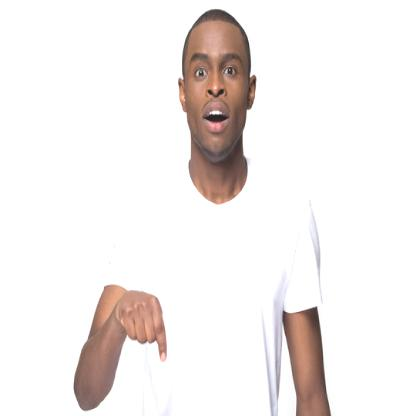Down: (111, 277, 179, 371)
